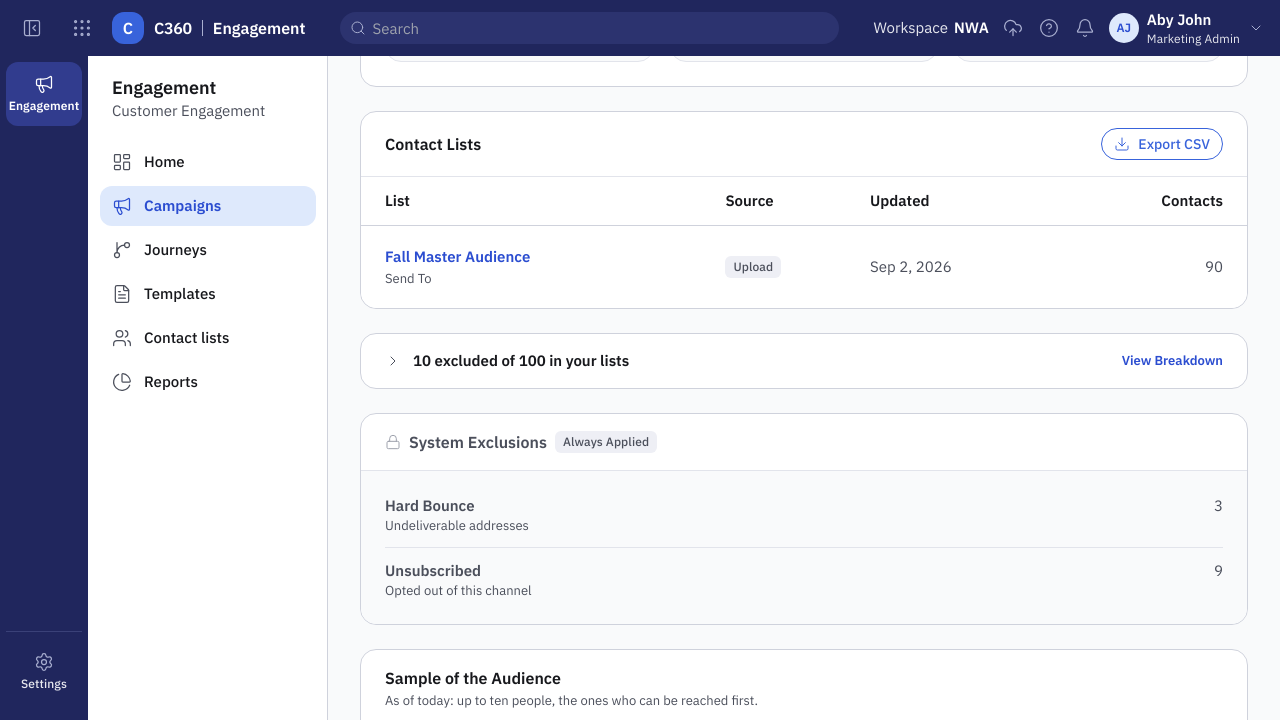
after a send the breakdown shows the last send beside today
The width and height of the screenshot is (1280, 720).
(page scrolled)
Click the button "10 excluded of 100 in your lists View Breakdown" at (475, 360), box [361,334,1247,388]
(page scrolled)
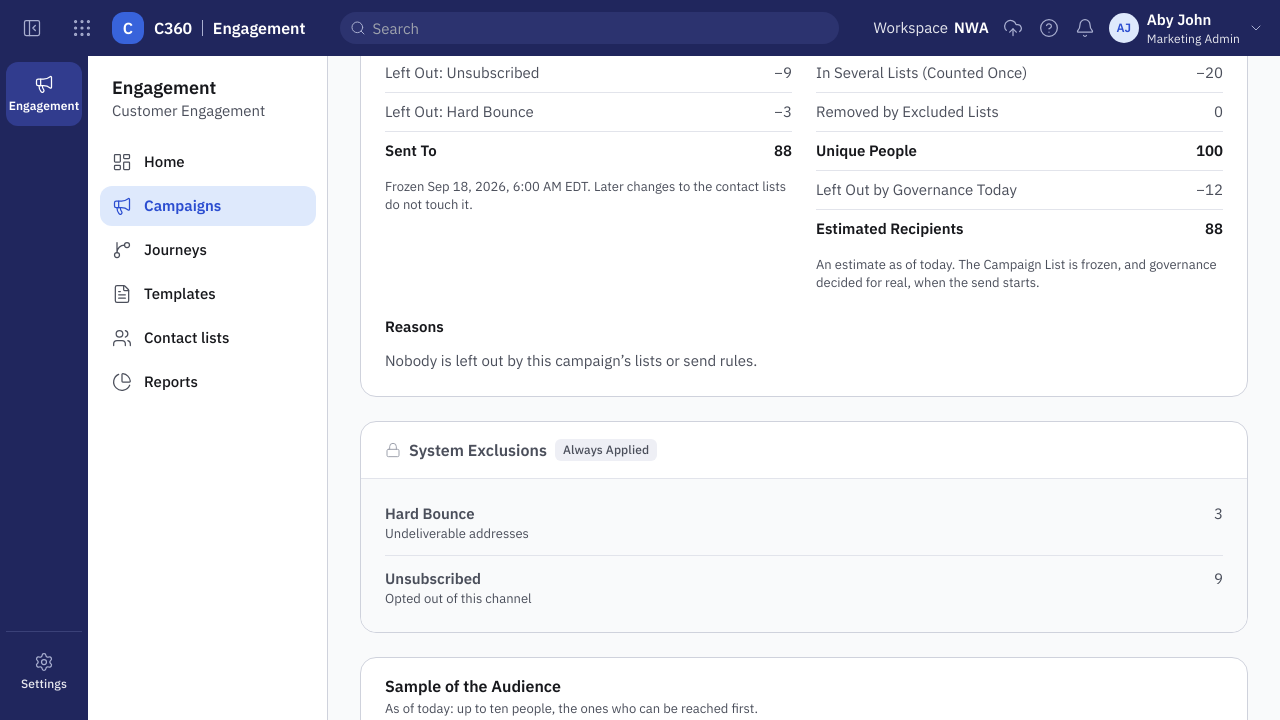
Check: the element named "If It Were Sent Today" is shown, box [816,14,1223,248]
Check: the text "Nobody is left out by this campaign’s lists or send rules." is shown, box [385,350,757,370]
